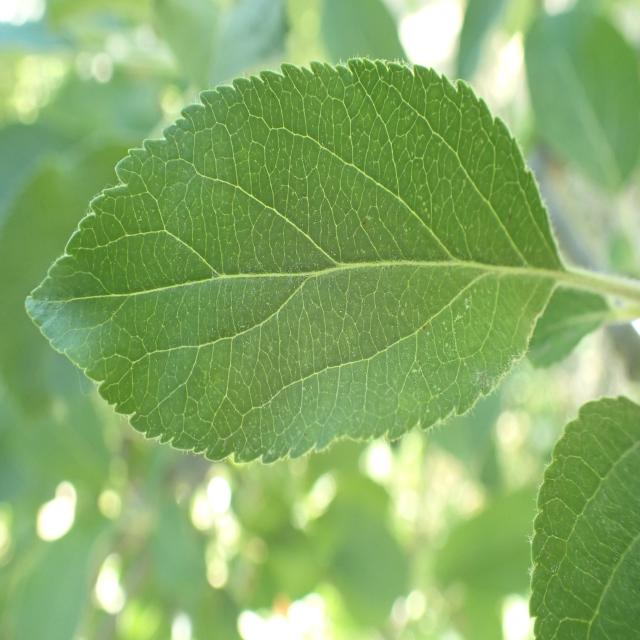healthy: (25, 56, 565, 467), (528, 395, 640, 640)
